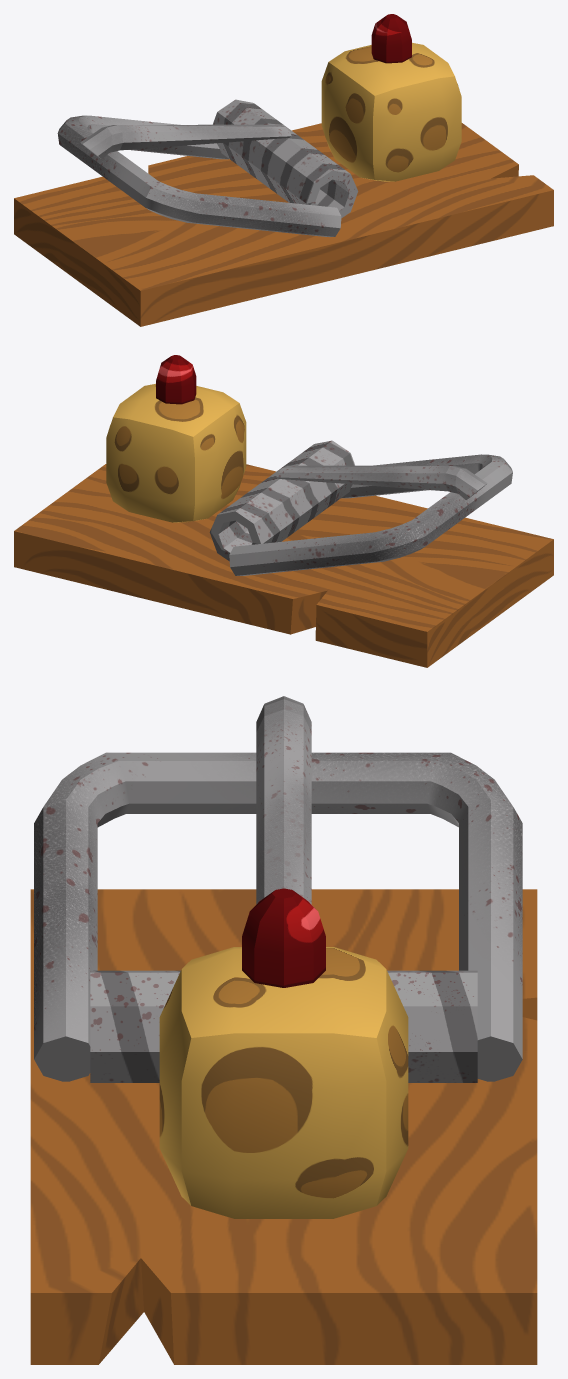
The model's file is TrapMine.fbx.
3 views of the same model, one above another, from view 1: azimuth 30°, elevation 25°; view 2: azimuth 150°, elevation 25°; view 3: azimuth 270°, elevation 25° (orthographic). The views are drawn at different scales.
Parts seen in each view (by area): view 1: Tabla, Queso, Trampa, Resorte, Alambre, LED; view 2: Tabla, Queso, Trampa, Resorte, Alambre, LED; view 3: Tabla, Queso, Trampa, Resorte, Alambre, LED.
Part boxes in pixels (x1=…): Tabla: x1=14, y1=123, x2=553, y2=326; Queso: x1=321, y1=42, x2=461, y2=181; Trampa: x1=57, y1=115, x2=341, y2=237; Resorte: x1=213, y1=99, x2=358, y2=218; Alambre: x1=80, y1=124, x2=291, y2=158; LED: x1=371, y1=14, x2=411, y2=63; Tabla: x1=14, y1=464, x2=553, y2=667; Queso: x1=106, y1=383, x2=246, y2=522; Trampa: x1=229, y1=454, x2=512, y2=575; Resorte: x1=209, y1=440, x2=354, y2=561; Alambre: x1=276, y1=465, x2=487, y2=499; LED: x1=156, y1=355, x2=196, y2=404; Tabla: x1=30, y1=889, x2=537, y2=1364; Queso: x1=159, y1=947, x2=408, y2=1218; Trampa: x1=34, y1=752, x2=522, y2=1081; Resorte: x1=90, y1=970, x2=477, y2=1082; Alambre: x1=256, y1=696, x2=311, y2=904; LED: x1=242, y1=888, x2=325, y2=987.
Bounding box in the file's own units: 32.9 × 14.26 × 17.45.
Materials: 6 (6 with a texture image).
